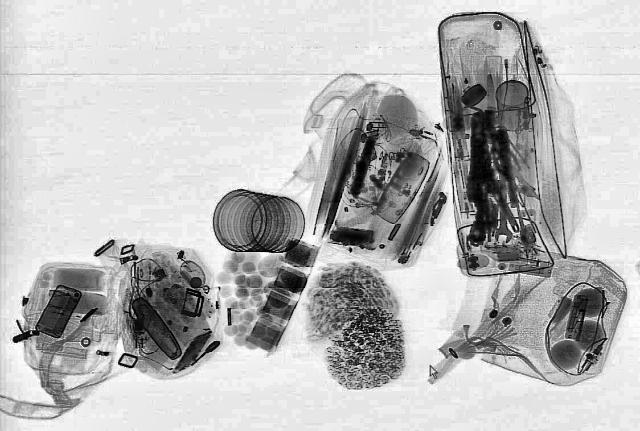Wrench: (493, 193, 512, 243)
